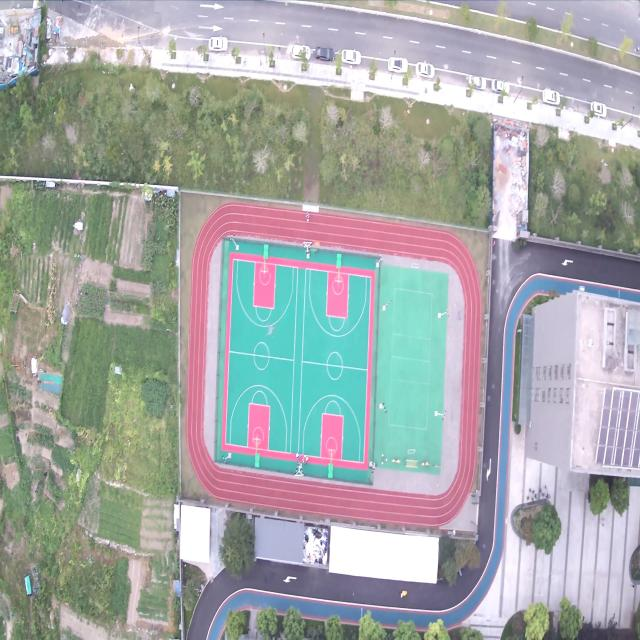UAV: (264, 322, 276, 339)
